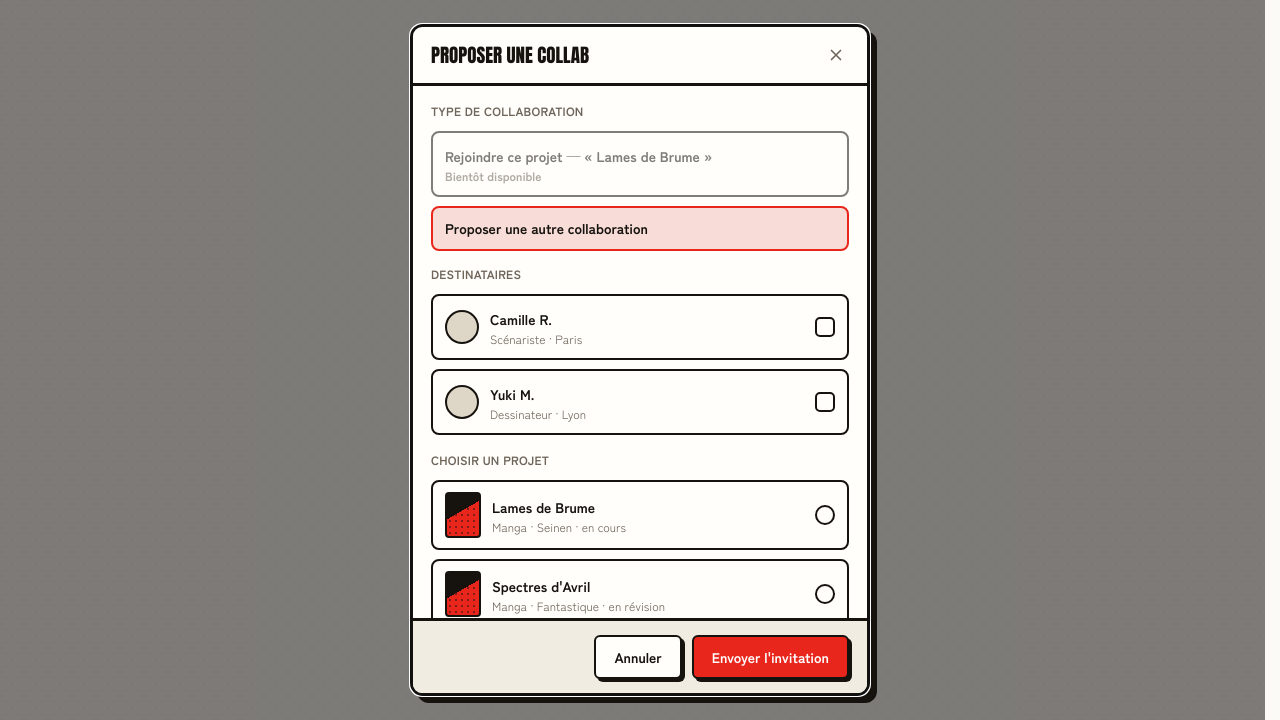
Test: InviteModal — from-work mode (multi-creator work) › sends toUsers with the cherry-picked creators and names them in the results
Click the checkbox labelled "Camille R. Scénariste · Paris".
click(640, 327)  # box x1=431 y1=294 x2=849 y2=360
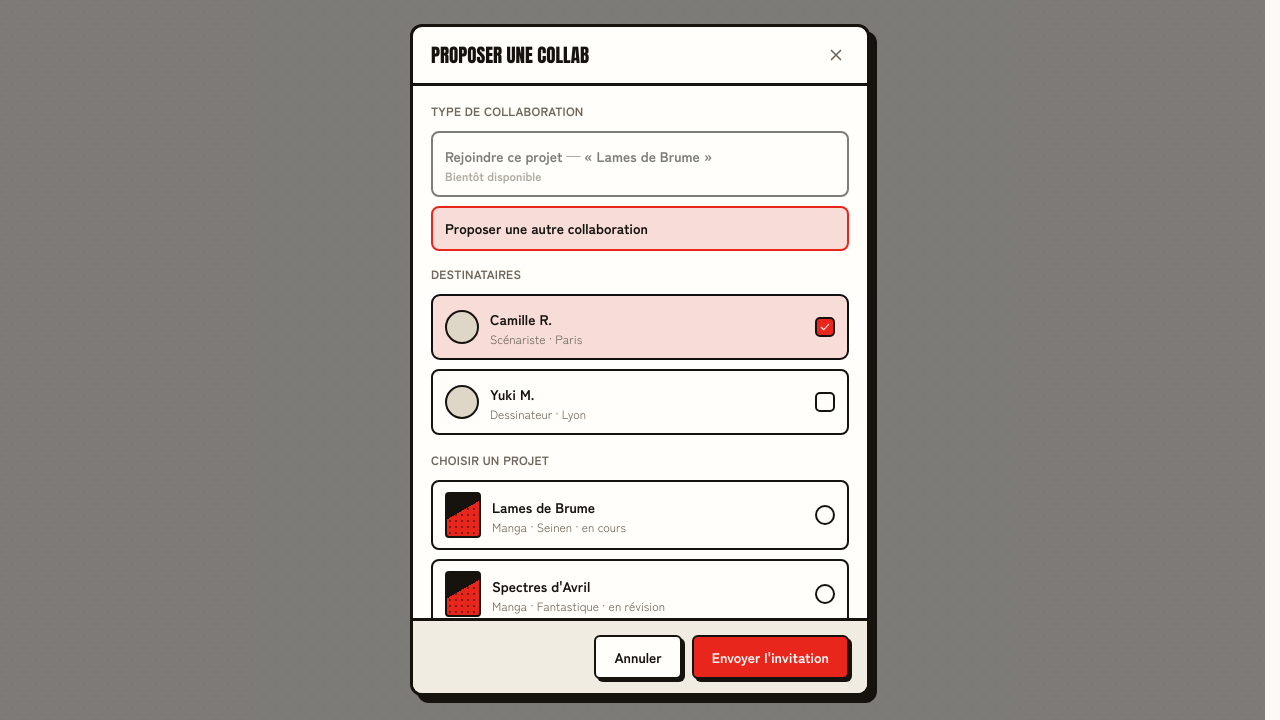
Click the button "Envoyer l'invitation".
click(770, 657)  # box x1=692 y1=635 x2=849 y2=679
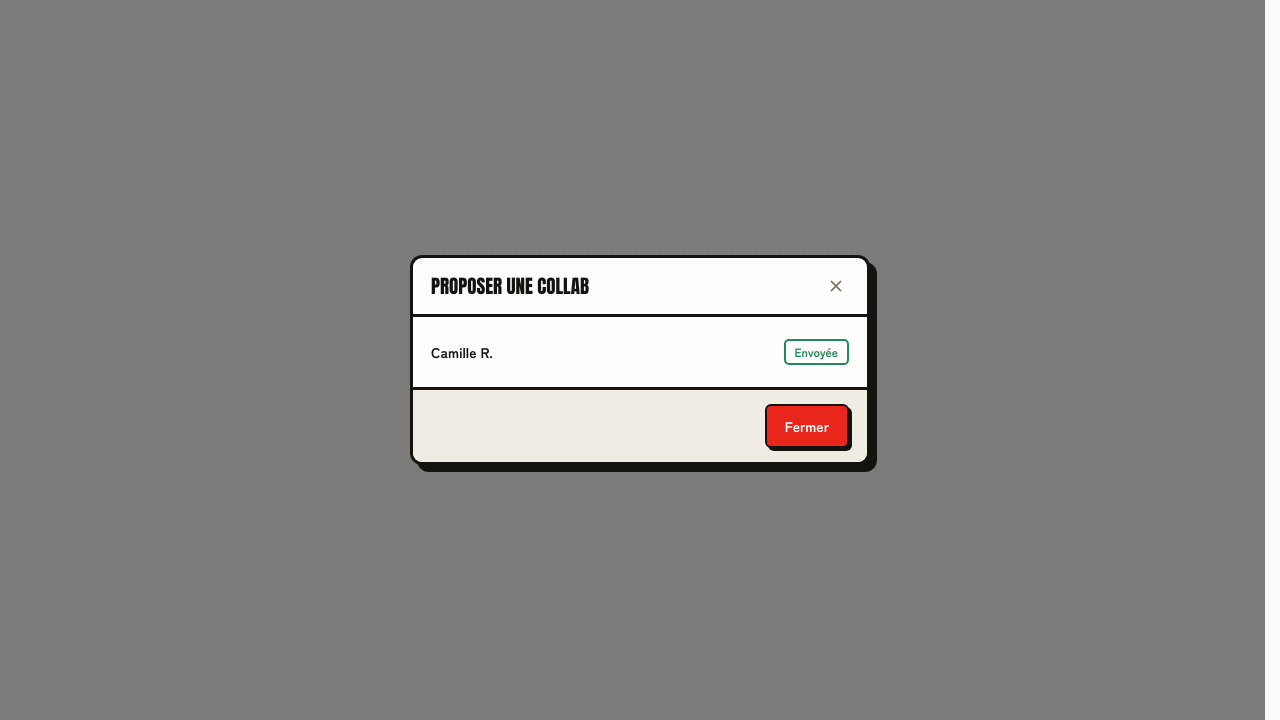
Expected: the text "Camille R." is shown, x1=431 y1=342 x2=493 y2=362
Now the text "Envoyée" is shown, box x1=784 y1=339 x2=849 y2=365
